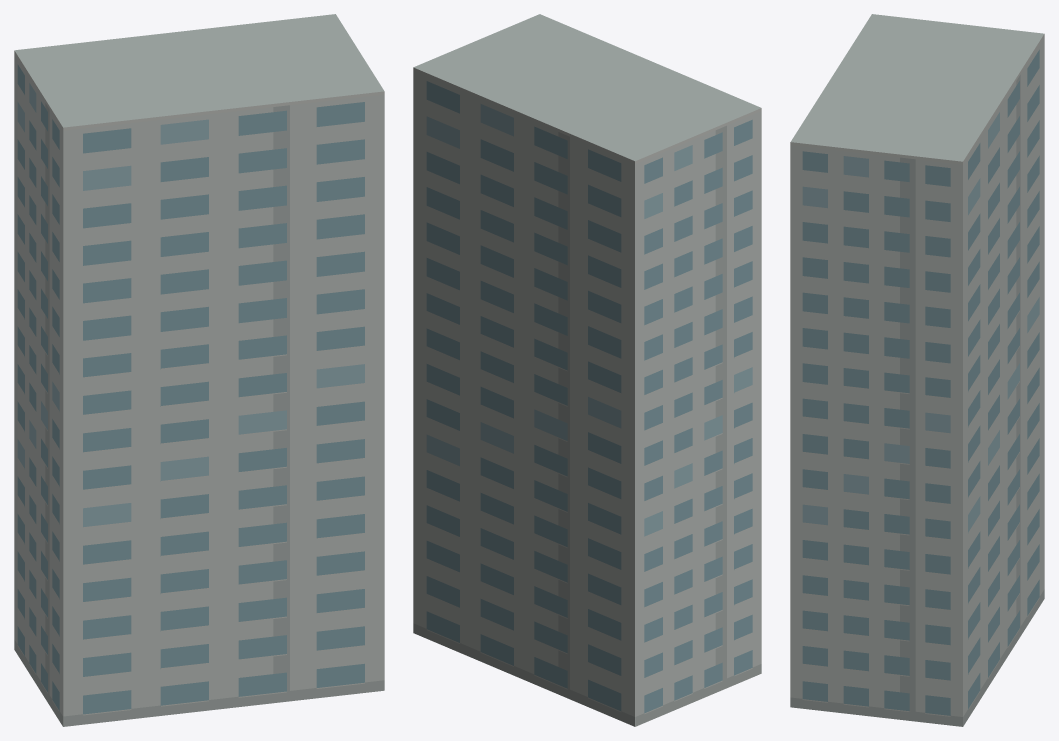
The model's file is residential-41d83187-6176-4ee4-8c23-ac89b611dedf.glb.
3 views of the same model, side by side, from view 1: azimuth 30°, elevation 25°; view 2: azimuth 150°, elevation 25°; view 3: azimuth 270°, elevation 25° (orthographic). The views are drawn at different scales.
Parts seen in each view (by area): view 1: residential-41d83187-6176-4ee4-8c23-ac89b611dedf.tmp; view 2: residential-41d83187-6176-4ee4-8c23-ac89b611dedf.tmp; view 3: residential-41d83187-6176-4ee4-8c23-ac89b611dedf.tmp.
Part boxes in pixels (x1=…): residential-41d83187-6176-4ee4-8c23-ac89b611dedf.tmp: x1=14, y1=14, x2=384, y2=726; residential-41d83187-6176-4ee4-8c23-ac89b611dedf.tmp: x1=413, y1=14, x2=761, y2=726; residential-41d83187-6176-4ee4-8c23-ac89b611dedf.tmp: x1=790, y1=14, x2=1044, y2=726.
Size of the model in its own units: 25.79 by 46 by 18.75.
